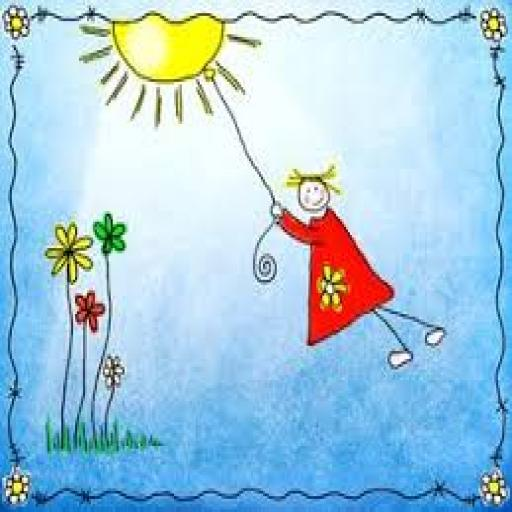person: (271, 140, 449, 420)
